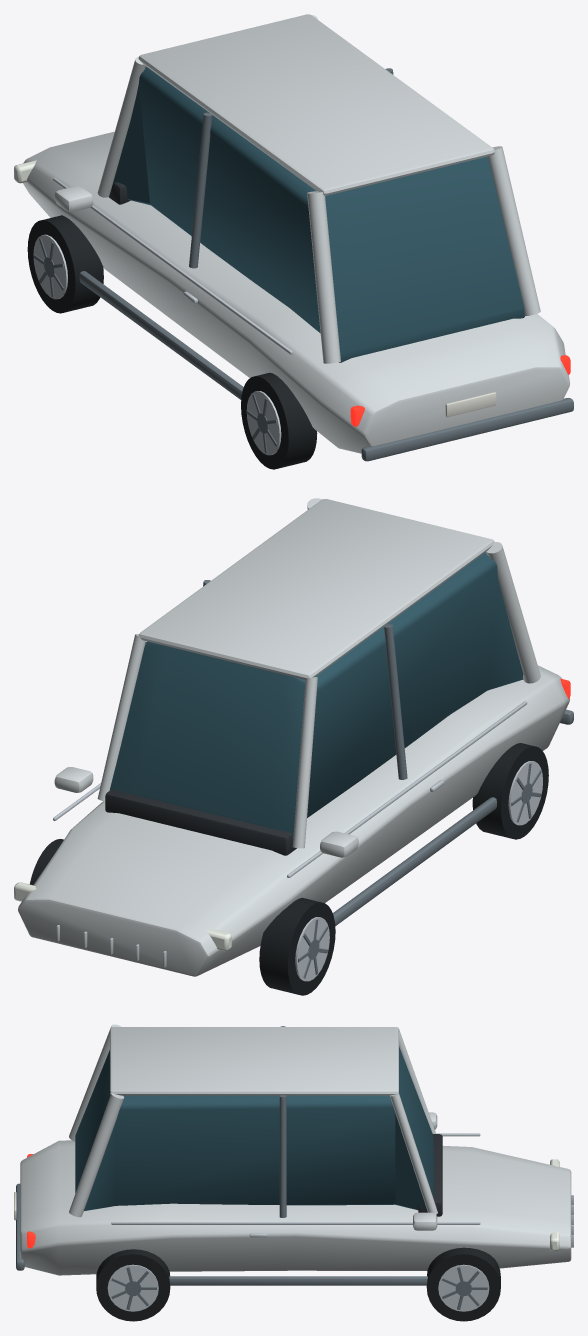
File: Courier_Van.fbx
The picture shows the model from 3 angles, top to bottom: view 1: azimuth 30°, elevation 25°; view 2: azimuth 150°, elevation 25°; view 3: azimuth 270°, elevation 25°; orthographic projection. The views are drawn at different scales.
Parts seen in each view (by area): view 1: Body.006, Wheel_LF.006, Wheel_LR.006; view 2: Body.006, Wheel_LF.006, Wheel_LR.006; view 3: Body.006, Wheel_RF.006, Wheel_RR.006.
Boxes of the visible parts, x1,y1,x2,y2 form: Body.006: [23, 14, 573, 461]; Wheel_LF.006: [27, 215, 103, 313]; Wheel_LR.006: [241, 372, 317, 469]; Body.006: [18, 498, 573, 976]; Wheel_LF.006: [259, 897, 335, 995]; Wheel_LR.006: [472, 743, 548, 839]; Body.006: [14, 1024, 573, 1285]; Wheel_RF.006: [426, 1247, 500, 1321]; Wheel_RR.006: [96, 1249, 170, 1321].
Size of the model in its own units: 2.47 by 2.23 by 5.28.
